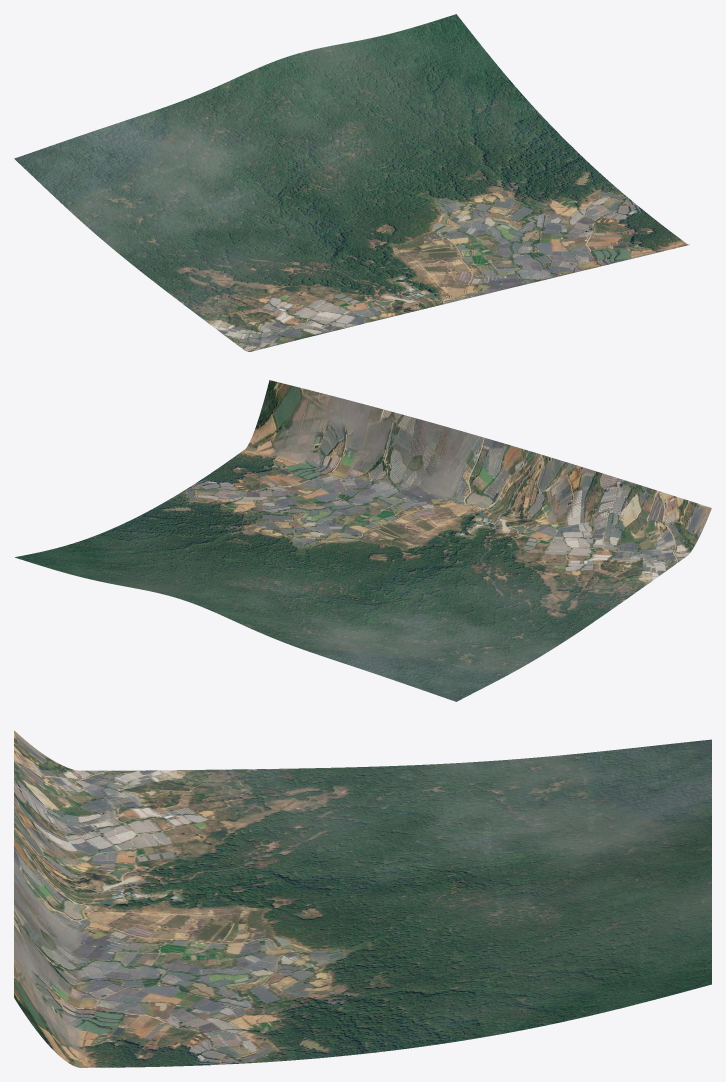
Rendered from terrain_real_T_W01_N05.glb.
3 views of the same model, one above another, from view 1: azimuth 30°, elevation 25°; view 2: azimuth 150°, elevation 25°; view 3: azimuth 270°, elevation 25° (orthographic). The views are drawn at different scales.
Visible parts, largest first — view 1: Terrain_Real_DEM_T_W01_N05; view 2: Terrain_Real_DEM_T_W01_N05; view 3: Terrain_Real_DEM_T_W01_N05.
Boxes of the visible parts, x1,y1,x2,y2 form: Terrain_Real_DEM_T_W01_N05: (14,14,689,351); Terrain_Real_DEM_T_W01_N05: (15,380,711,701); Terrain_Real_DEM_T_W01_N05: (14,730,711,1067).
Bounding box in the file's own units: 2000 × 264 × 2000.
1 material, 1 textured.
